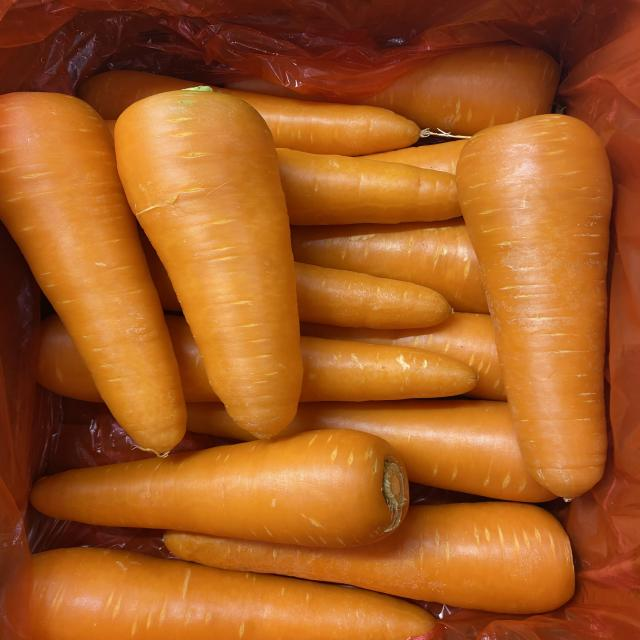carrot: (2, 89, 193, 461), (112, 78, 307, 436), (452, 117, 626, 500), (5, 426, 414, 549), (160, 498, 581, 613), (30, 546, 435, 640)
